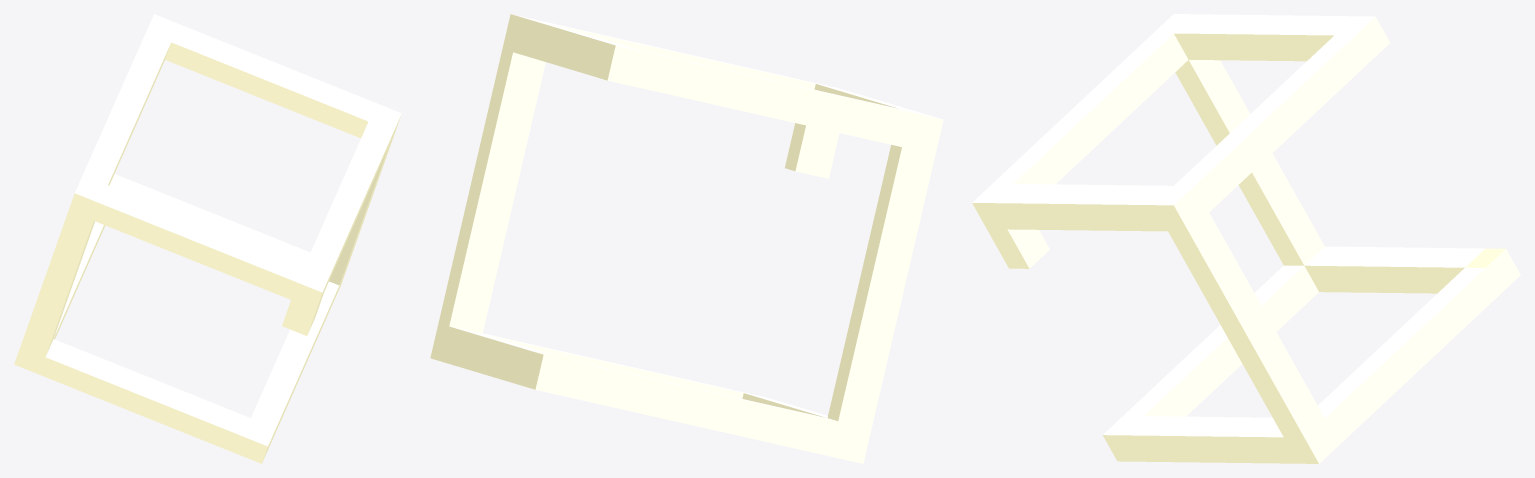
3 views of the same model, side by side, from view 1: azimuth 30°, elevation 25°; view 2: azimuth 150°, elevation 25°; view 3: azimuth 270°, elevation 25° (orthographic). The views are drawn at different scales.
Parts seen in each view (by area): view 1: Box001; view 2: Box001; view 3: Box001.
Boxes of the visible parts, <box> form: Box001: <box>14,14,401,463</box>; Box001: <box>430,14,943,463</box>; Box001: <box>972,14,1520,463</box>.
Size of the model in its own units: 5.66 by 6.14 by 6.86.
